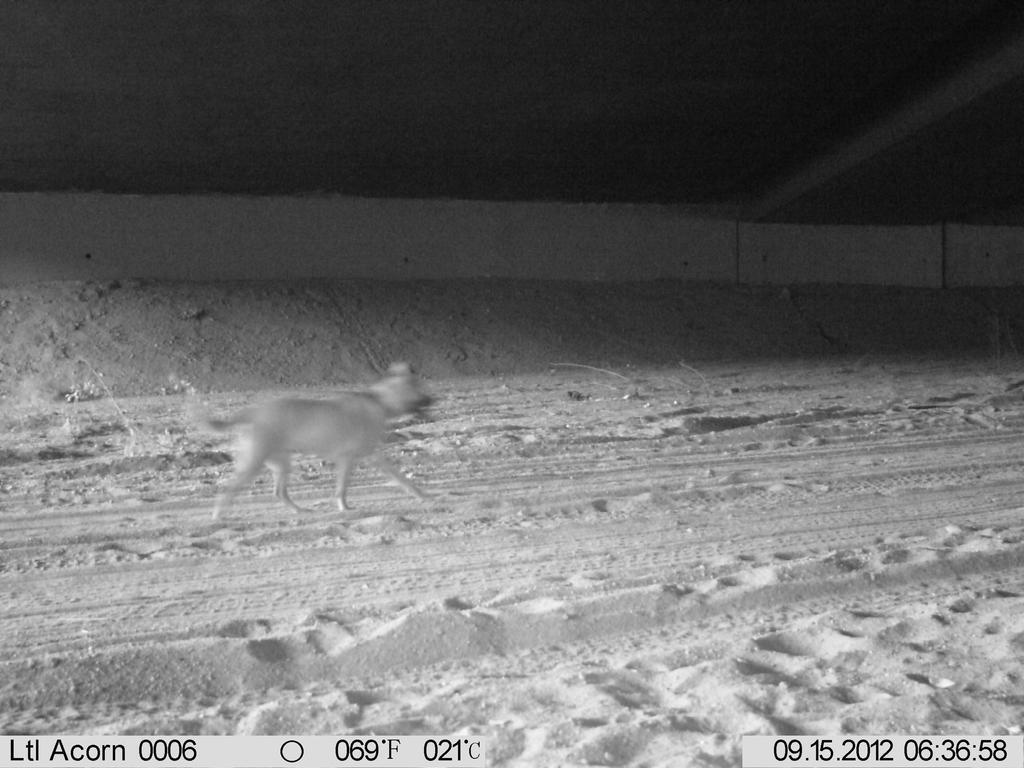dog: (177, 348, 453, 527)
